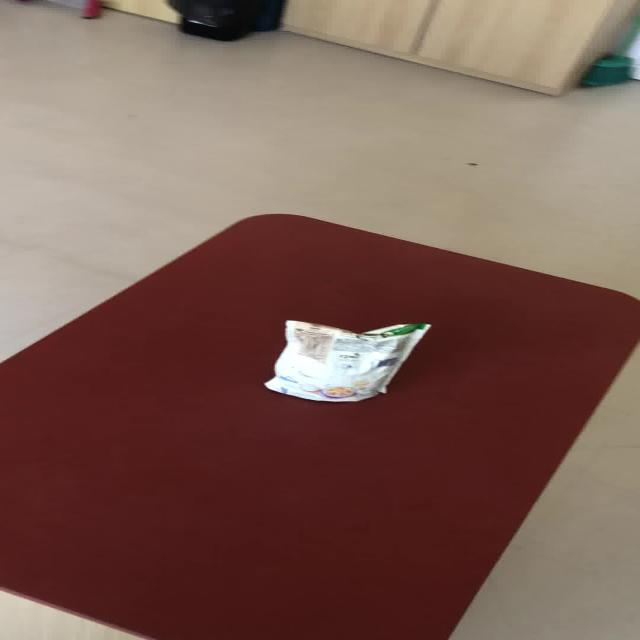corn flakes: (262, 318, 430, 402)
